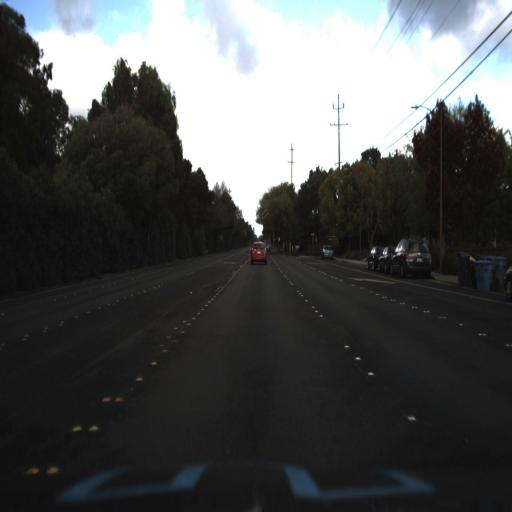car: (391, 236, 435, 279), (247, 234, 269, 270), (376, 243, 391, 277), (366, 242, 380, 272), (318, 245, 336, 264)
